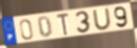0: (37, 15, 53, 39), (18, 19, 34, 41)
3: (74, 10, 92, 34)
9: (114, 5, 129, 28)
T: (55, 13, 71, 37)
U: (92, 7, 113, 31)
